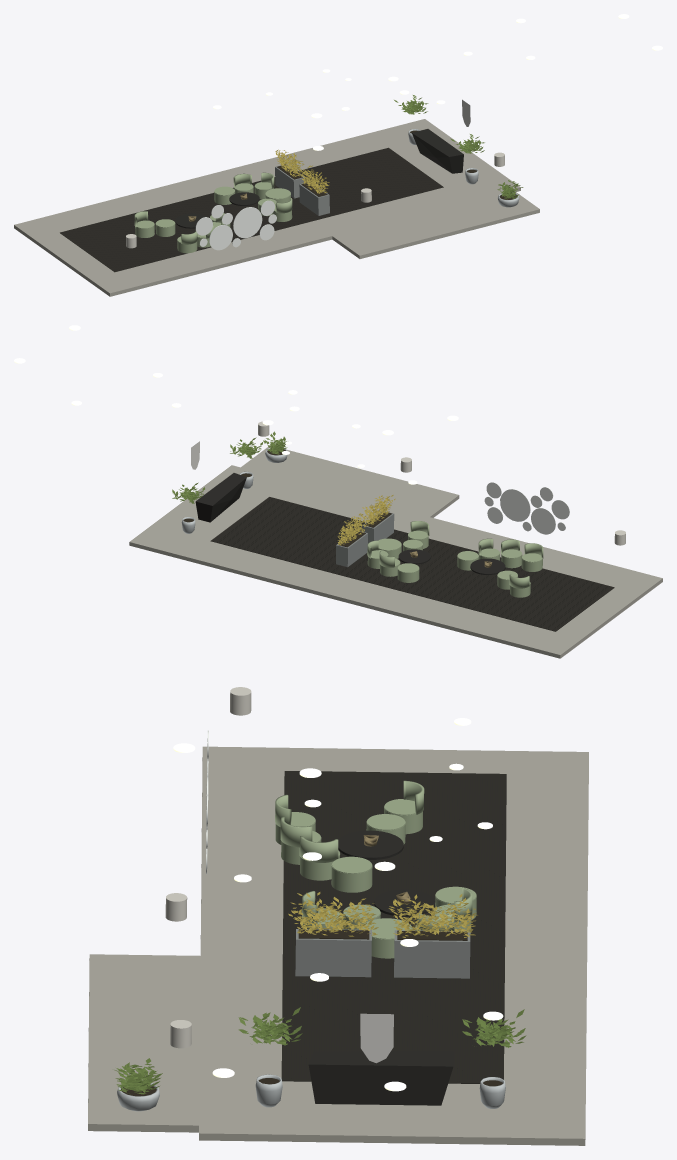
The picture shows the model from 3 angles, top to bottom: view 1: azimuth 30°, elevation 25°; view 2: azimuth 150°, elevation 25°; view 3: azimuth 270°, elevation 25°; orthographic projection. The views are drawn at different scales.
Visible parts, largest first — view 1: floor.main_slab, dark_floor_inlay.long_inlay, floor.rear_extension, reception_desk.faceted_counter, mirror_00.reflective_disc, divider_planter_right.container, divider_planter_left.container, mirror_01.reflective_disc; view 2: floor.main_slab, dark_floor_inlay.long_inlay, floor.rear_extension, reception_desk.faceted_counter, mirror_00.reflective_disc, divider_planter_left.container, mirror_01.reflective_disc, divider_planter_right.container; view 3: floor.main_slab, dark_floor_inlay.long_inlay, floor.rear_extension, reception_desk.faceted_counter, divider_planter_right.container, divider_planter_left.container, reception_emblem.shield, lounge_B_table.top, reception_tree_right_canopy.leaves, reception_tree_left_canopy.leaves, lounge_A_table.top, rear_corner_plant_foliage.leaves (+4 smaller).
Part boxes in pixels (x1,y1,x2,y2): floor.main_slab: (14,119,520,296); dark_floor_inlay.long_inlay: (60,147,443,272); floor.rear_extension: (330,190,539,258); reception_desk.faceted_counter: (412,129,463,173); mirror_00.reflective_disc: (233,207,262,238); divider_planter_right.container: (299,182,329,215); divider_planter_left.container: (275,164,304,198); mirror_01.reflective_disc: (209,225,232,250); floor.main_slab: (129,465,662,658); dark_floor_inlay.long_inlay: (210,497,614,631); floor.rear_extension: (239,445,459,517); reception_desk.faceted_counter: (195,473,246,522); mirror_00.reflective_disc: (500,489,530,521); divider_planter_left.container: (336,531,367,567); mirror_01.reflective_disc: (531,508,555,534); divider_planter_right.container: (362,511,394,543); floor.main_slab: (199,746,588,1145); dark_floor_inlay.long_inlay: (281,771,506,1083); floor.rear_extension: (88,954,209,1132); reception_desk.faceted_counter: (308,1051,453,1105); divider_planter_right.container: (295,929,371,977); divider_planter_left.container: (394,930,470,978); reception_emblem.shield: (360,1013,393,1063); lounge_B_table.top: (338,830,403,859); reception_tree_right_canopy.leaves: (238,1007,302,1045); reception_tree_left_canopy.leaves: (462,1009,526,1047); lounge_A_table.top: (374,889,434,916); rear_corner_plant_foliage.leaves: (114,1058,162,1094).
Bounding box in the file's own units: 27.1 × 5.15 × 10.37.
